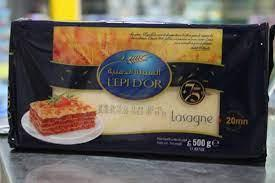lasagne: (11, 21, 268, 165)
